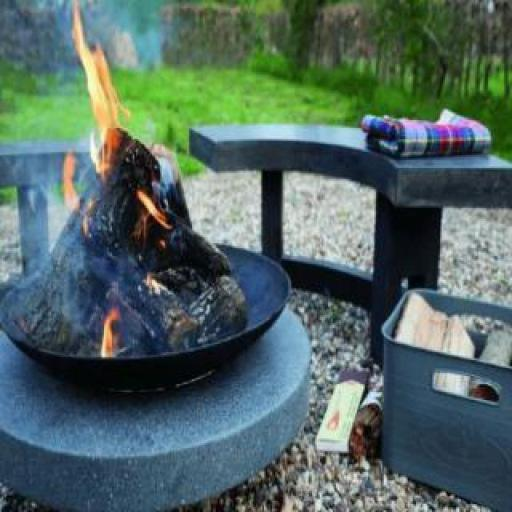smoke: (6, 158, 96, 346), (74, 28, 123, 166), (93, 291, 126, 370)
